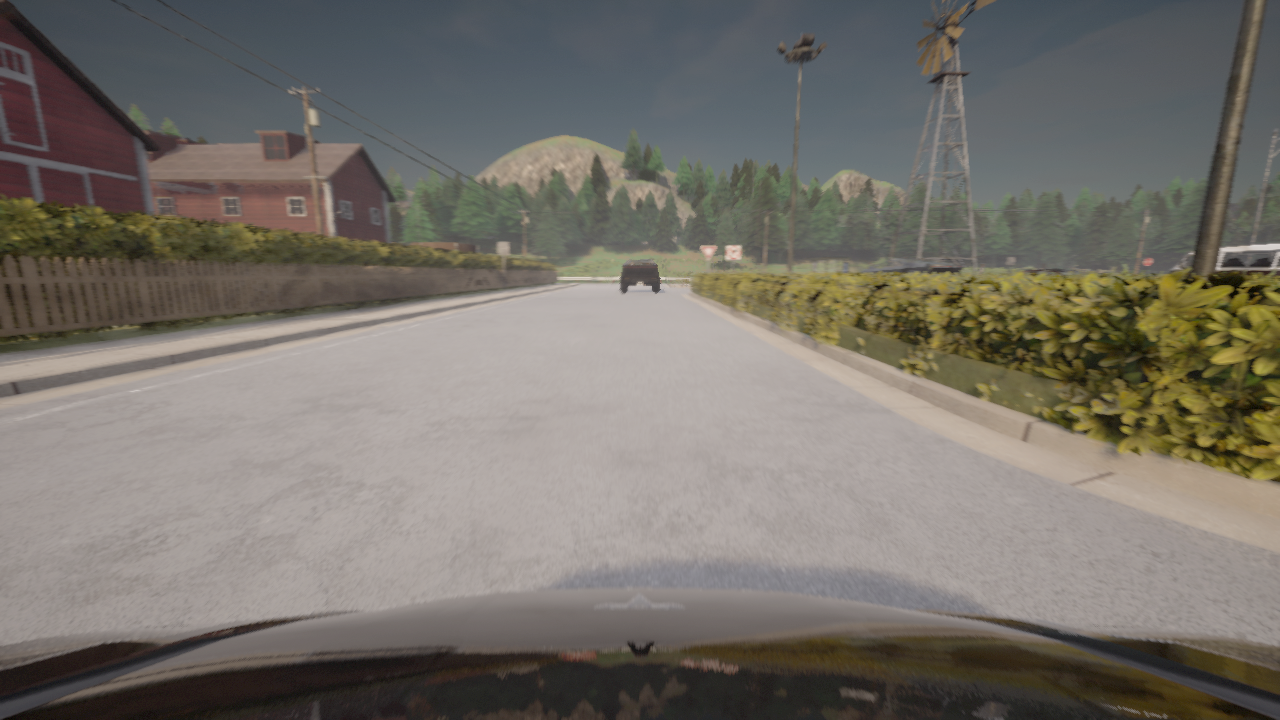cyclist: (0, 588, 1279, 719), (1169, 243, 1279, 277), (860, 259, 962, 274), (620, 260, 659, 292), (1031, 269, 1086, 275), (1010, 269, 1039, 274)
pedestrian: (978, 263, 984, 273)
